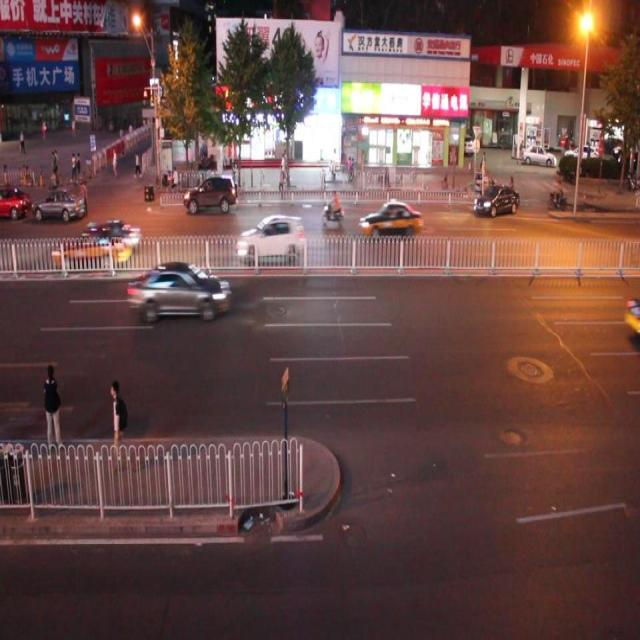car: (126, 258, 233, 323), (236, 211, 306, 268), (51, 230, 132, 271), (359, 197, 423, 244), (180, 174, 234, 218), (29, 186, 83, 228), (78, 216, 140, 251), (472, 180, 518, 218)
